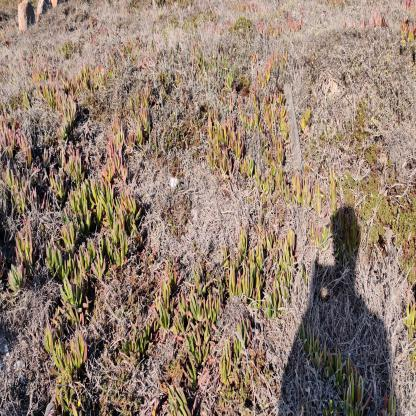cam: (168, 176, 186, 190)
